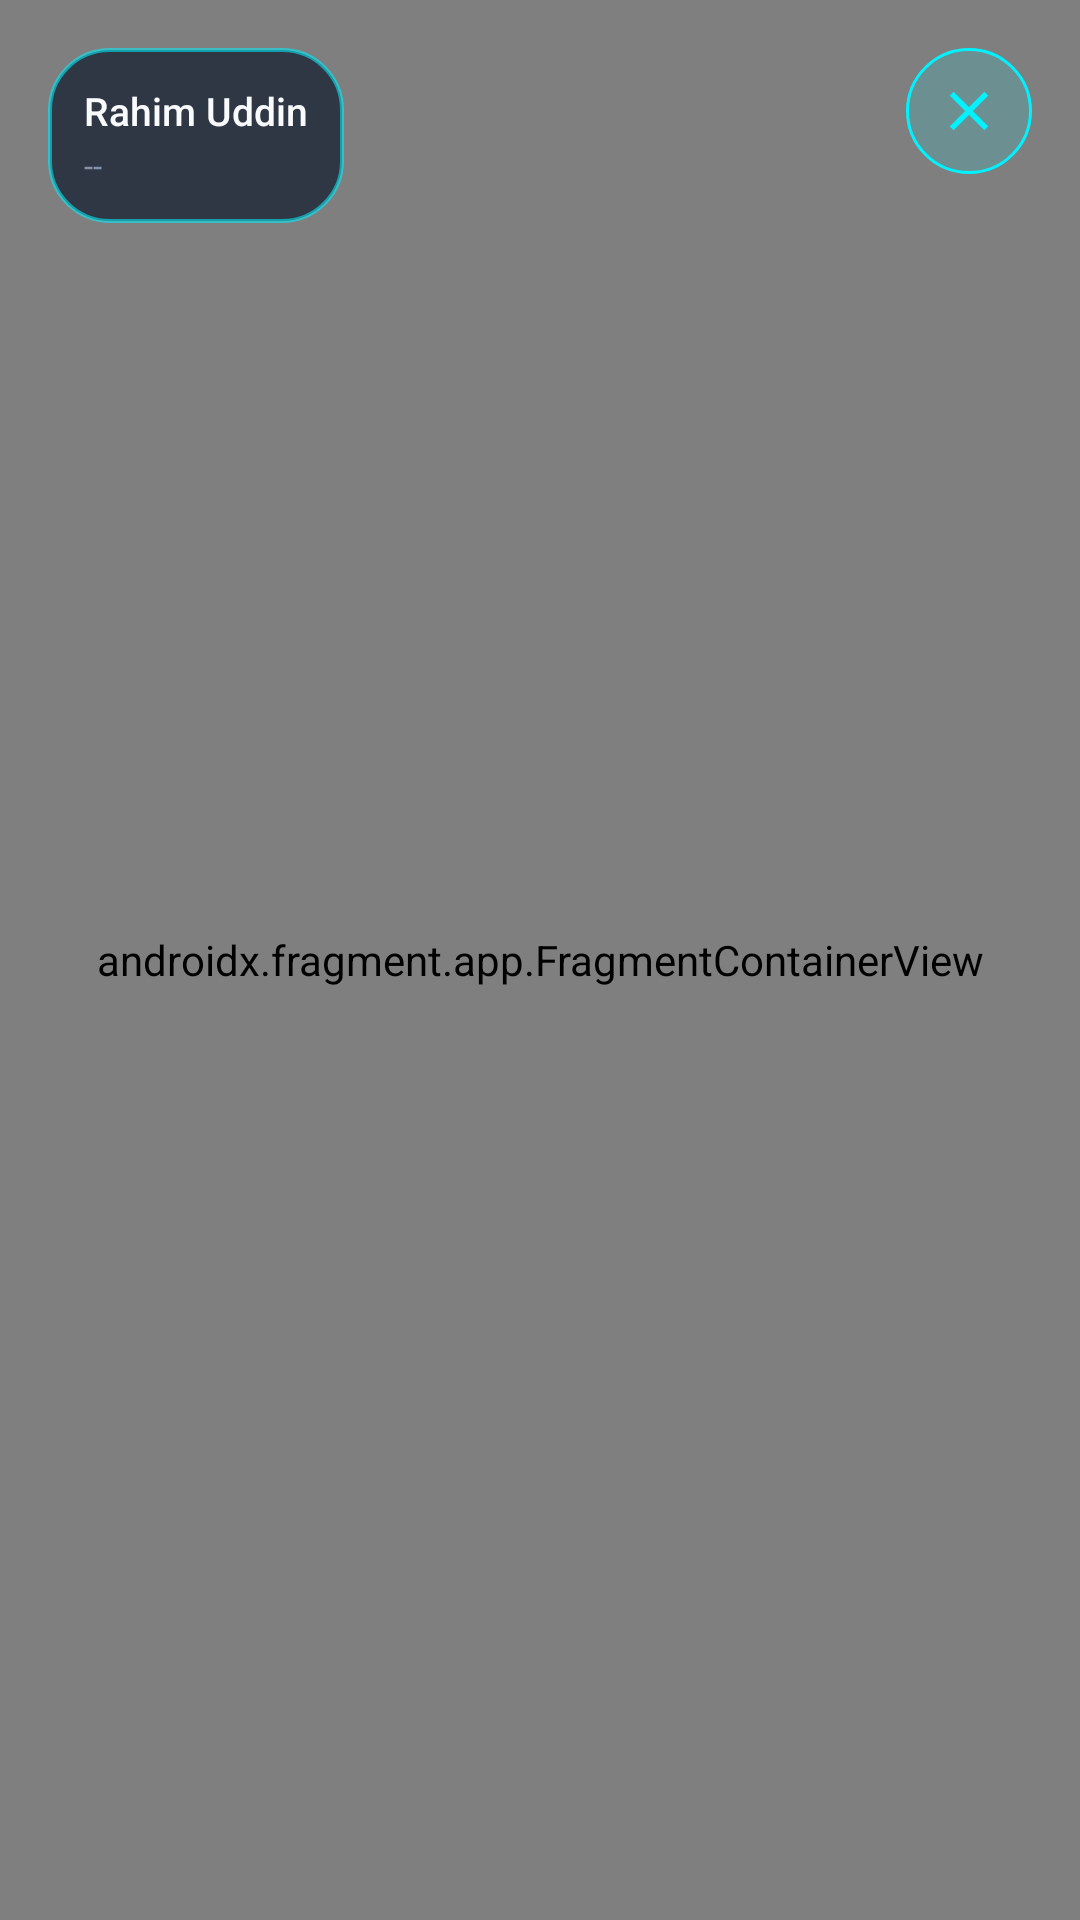

Screen size 1080×1920. Icon name, then its center in pixels as point (x, y):
close: point (969, 111)
